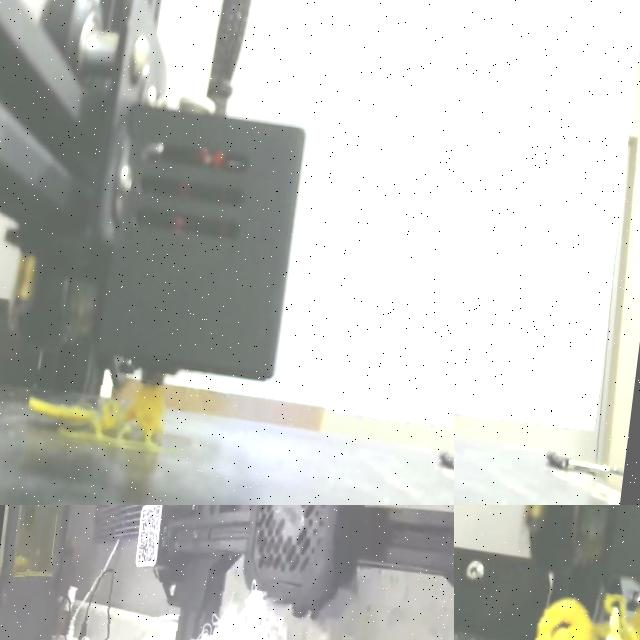spaghetti: (0, 558, 454, 640), (28, 384, 164, 449), (528, 585, 640, 640)
